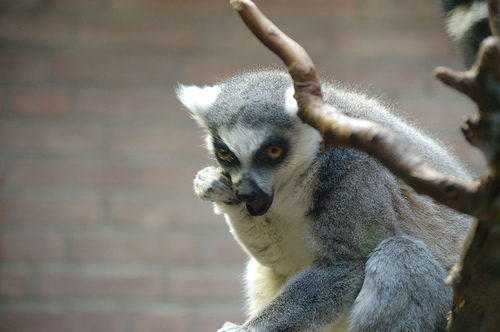cat: (173, 69, 481, 331)
